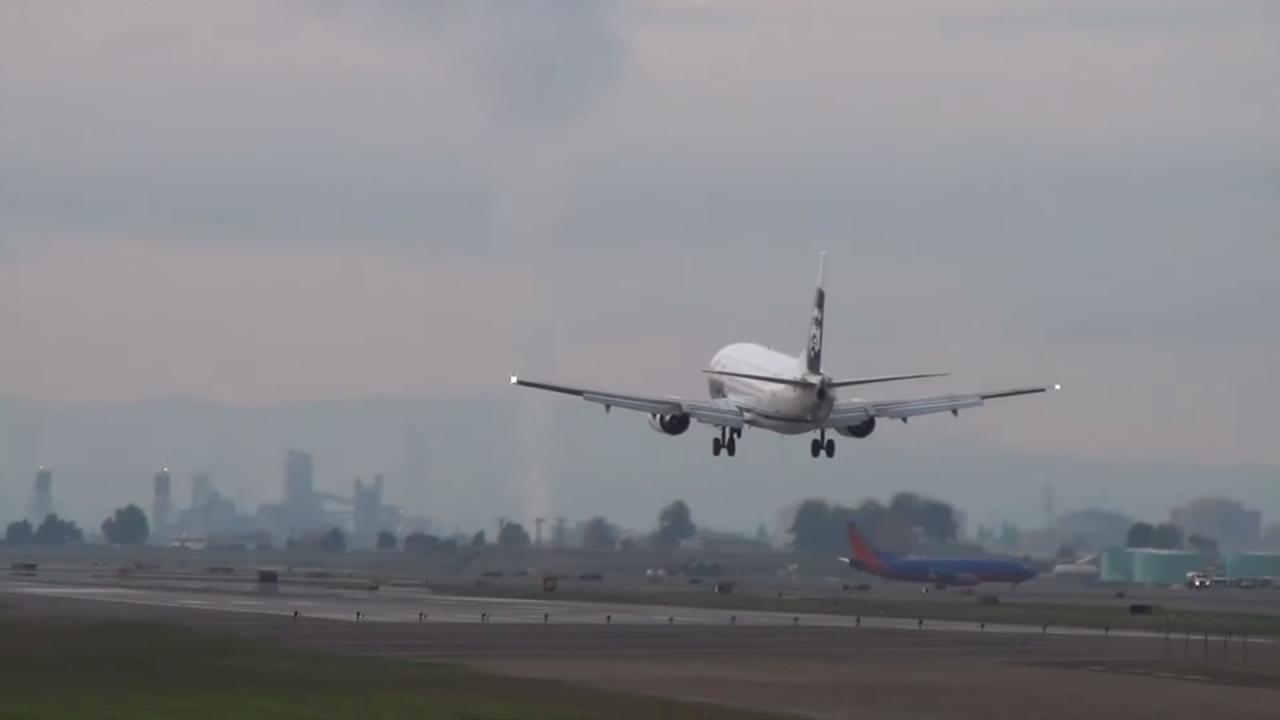Airplane: (501, 236, 1073, 469)
